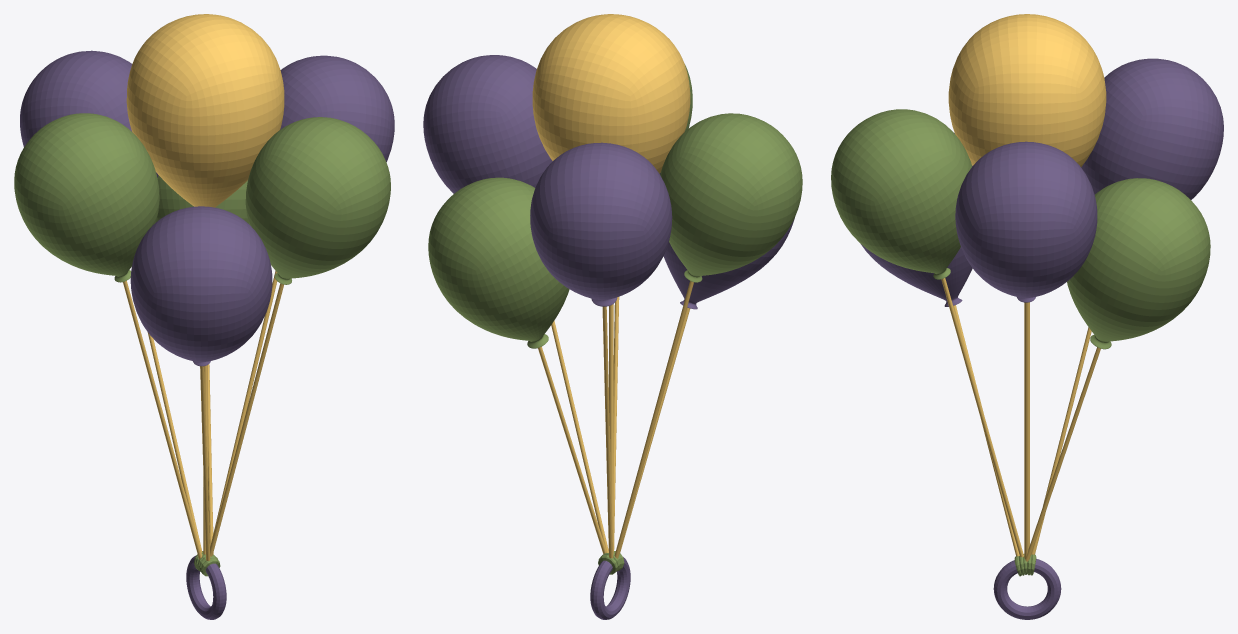
Rendered from balloon.fbx.
3 renders of one model, left to right at view 1: azimuth 30°, elevation 25°; view 2: azimuth 150°, elevation 25°; view 3: azimuth 270°, elevation 25°, orthographic.
Parts seen in each view (by area): view 1: balloon, Cube.008, Cube.004, Cube.006, Cube.001, Cube.003, Torus.001, Cube.009, Cube.011, Cube.005, Cube.007, Cube.010 (+2 smaller); view 2: balloon, Cube.008, Cube.003, Cube.005, Cube.001, Cube.006, Torus.001, Cube.009, Cube.010, Cube.007, Cube.012, Cube.002 (+2 smaller); view 3: balloon, Cube.001, Cube.004, Cube.005, Cube.003, Torus.001, Cube.006, Cube.011, Cube.007, Cube.012, Cube.010, Cube.013.
Part boxes in pixels (bbox=[...]): balloon: bbox=[126, 14, 284, 207]; Cube.008: bbox=[14, 113, 159, 282]; Cube.004: bbox=[245, 117, 390, 284]; Cube.006: bbox=[130, 206, 272, 366]; Cube.001: bbox=[280, 55, 394, 161]; Cube.003: bbox=[20, 50, 158, 177]; Torus.001: bbox=[186, 551, 226, 619]; Cube.009: bbox=[123, 280, 202, 559]; Cube.011: bbox=[210, 283, 283, 556]; Cube.005: bbox=[156, 175, 248, 223]; Cube.007: bbox=[210, 271, 277, 547]; Cube.010: bbox=[147, 332, 202, 552]; balloon: bbox=[532, 14, 690, 173]; Cube.008: bbox=[660, 113, 802, 282]; Cube.003: bbox=[530, 142, 672, 306]; Cube.005: bbox=[428, 177, 569, 348]; Cube.001: bbox=[423, 55, 552, 193]; Cube.006: bbox=[660, 173, 794, 309]; Torus.001: bbox=[590, 551, 630, 619]; Cube.009: bbox=[614, 281, 693, 558]; Cube.010: bbox=[602, 306, 613, 558]; Cube.007: bbox=[551, 320, 608, 552]; Cube.012: bbox=[538, 346, 606, 553]; Cube.002: bbox=[609, 304, 613, 554]; balloon: bbox=[948, 14, 1106, 167]; Cube.001: bbox=[955, 141, 1097, 302]; Cube.004: bbox=[831, 109, 972, 279]; Cube.005: bbox=[1067, 178, 1210, 349]; Cube.003: bbox=[1081, 58, 1223, 199]; Torus.001: bbox=[993, 554, 1061, 619]; Cube.006: bbox=[861, 133, 972, 306]; Cube.011: bbox=[941, 278, 1023, 557]; Cube.007: bbox=[1024, 302, 1028, 558]; Cube.012: bbox=[1025, 347, 1100, 561]; Cube.010: bbox=[1031, 327, 1091, 554]; Cube.013: bbox=[953, 305, 1019, 556].
Size of the model in its own units: 144 by 228 by 136.
